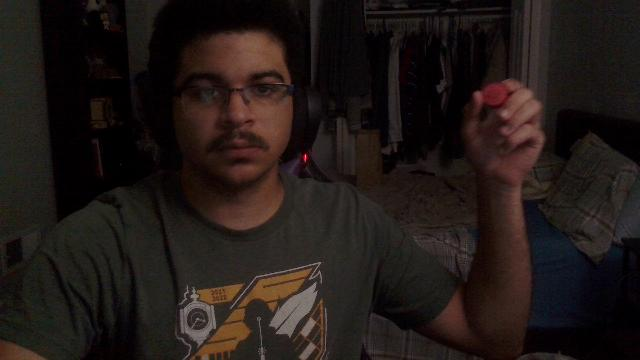cap: (482, 84, 508, 108)
